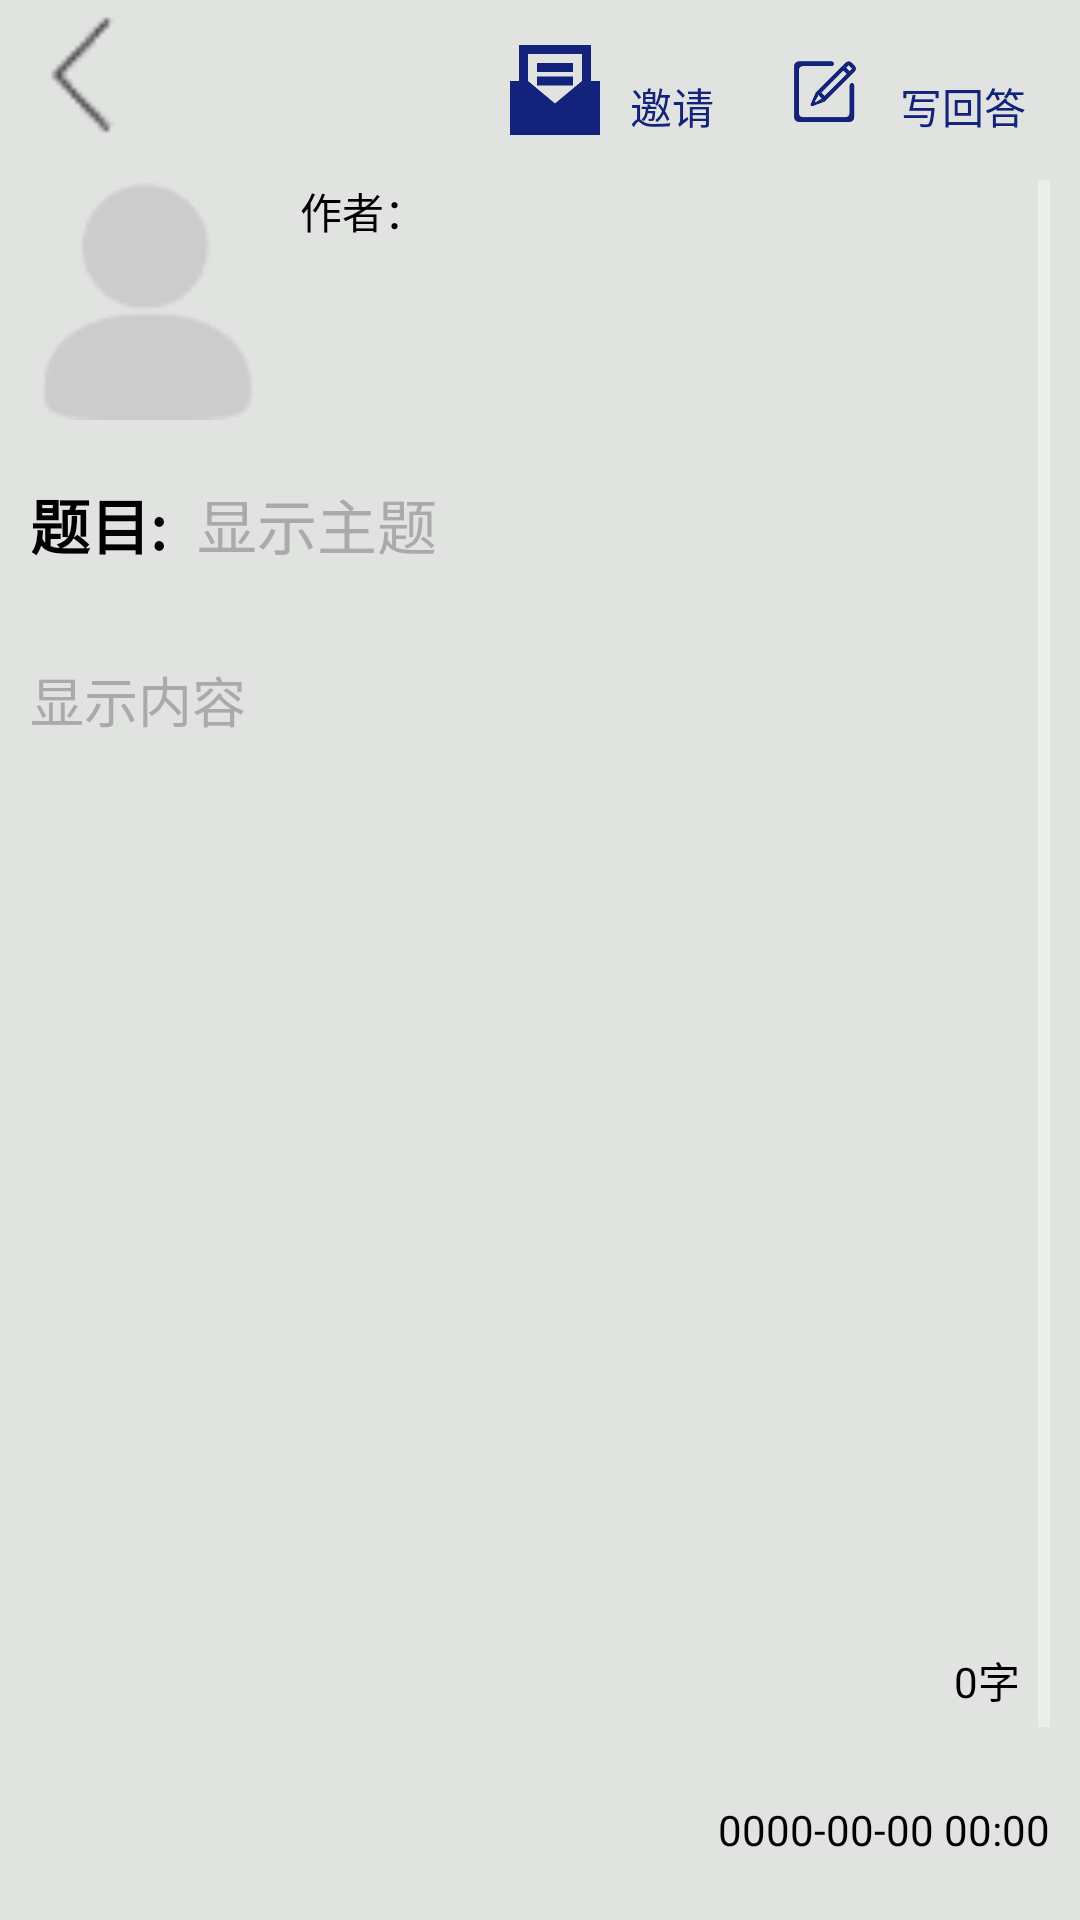

Named icons in this screenshot (1080x1920) and their centers, [x,y]:
back: [81,75]
invitation: [555,90]
write: [825,91]
